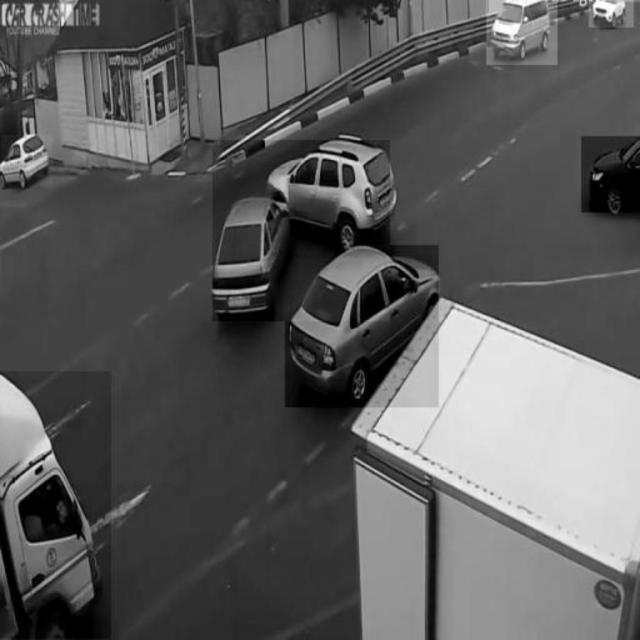accident: (213, 140, 390, 320)
vehicle: (0, 371, 111, 639), (285, 246, 439, 408), (487, 0, 558, 64), (581, 136, 640, 212), (2, 135, 53, 186), (589, 0, 634, 27)
